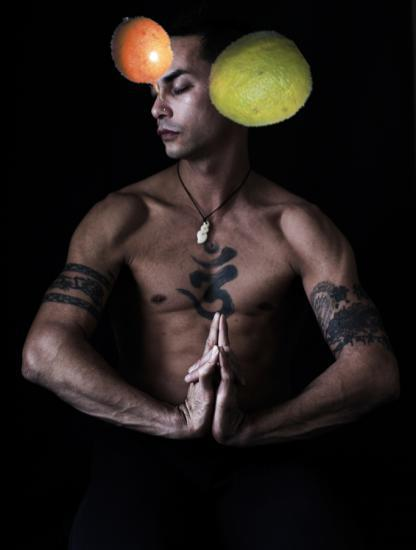Granadilla: (99, 14, 190, 105)
Limes: (206, 30, 310, 134)
